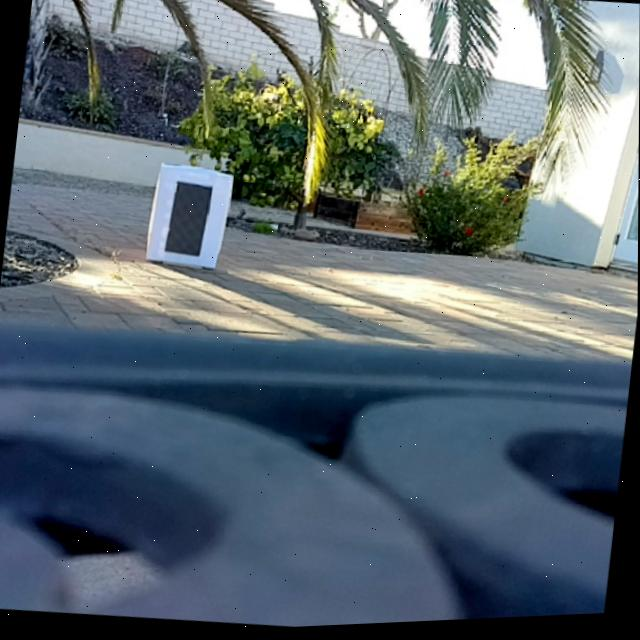led: (164, 180, 212, 261)
